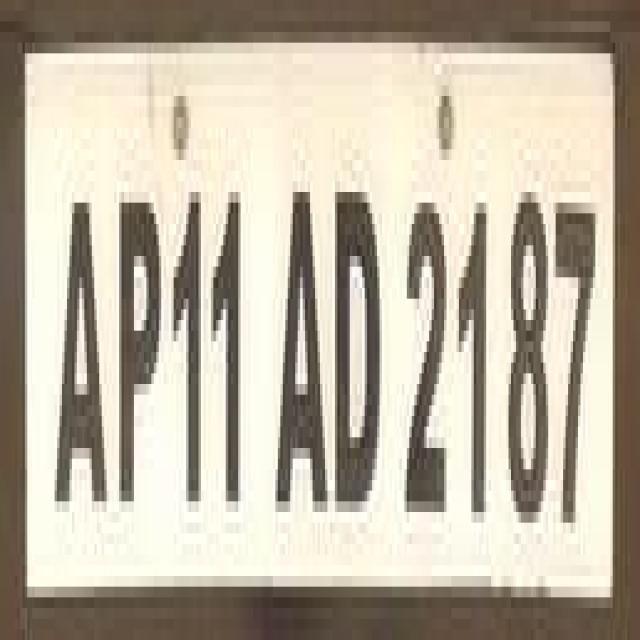license_plate: (22, 11, 640, 629)
